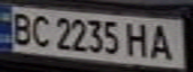2: (51, 14, 72, 52), (66, 16, 87, 53)
3: (84, 17, 106, 55)
5: (103, 18, 124, 56)
A: (145, 20, 181, 61)
B: (6, 9, 36, 46)
C: (27, 12, 54, 48)
H: (124, 20, 154, 58)
